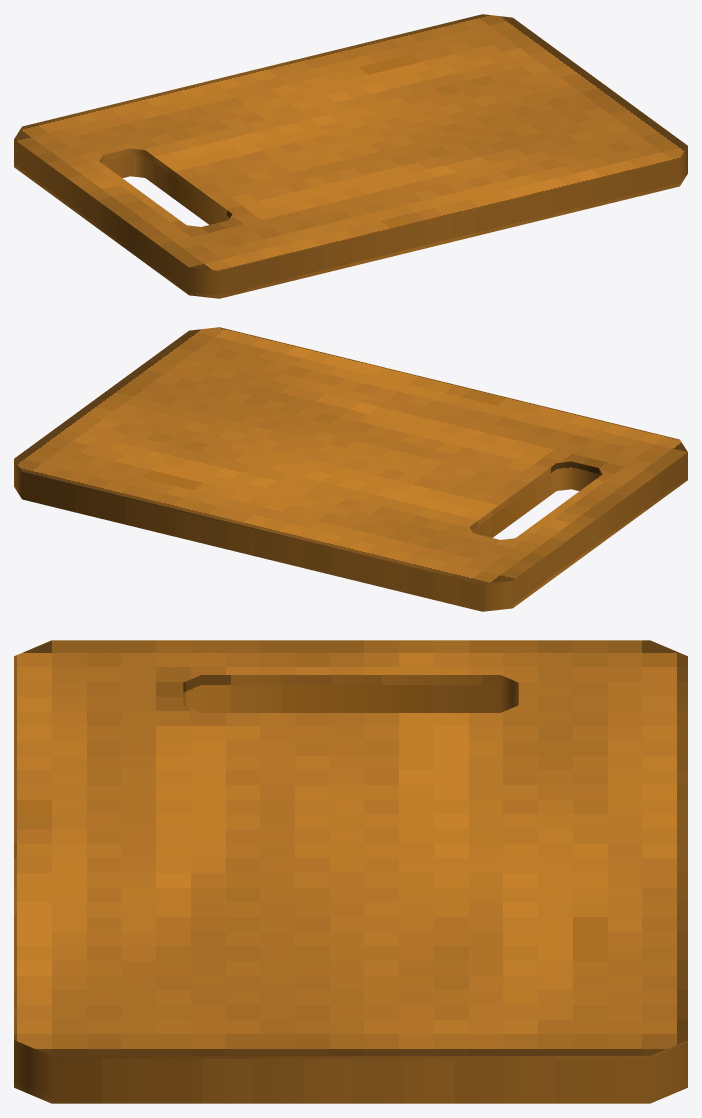
File: Cutting_Board.fbx
3 renders of one model, top to bottom at view 1: azimuth 30°, elevation 25°; view 2: azimuth 150°, elevation 25°; view 3: azimuth 270°, elevation 25°, orthographic. The views are drawn at different scales.
Visible parts, largest first — view 1: Cutting_Board; view 2: Cutting_Board; view 3: Cutting_Board.
Part boxes in pixels (x1,y1,x2,y2): Cutting_Board: (14, 14, 687, 298); Cutting_Board: (14, 327, 687, 611); Cutting_Board: (14, 640, 687, 1103).
Bounding box in the file's own units: 0.6782 × 0.0362 × 0.4646.
